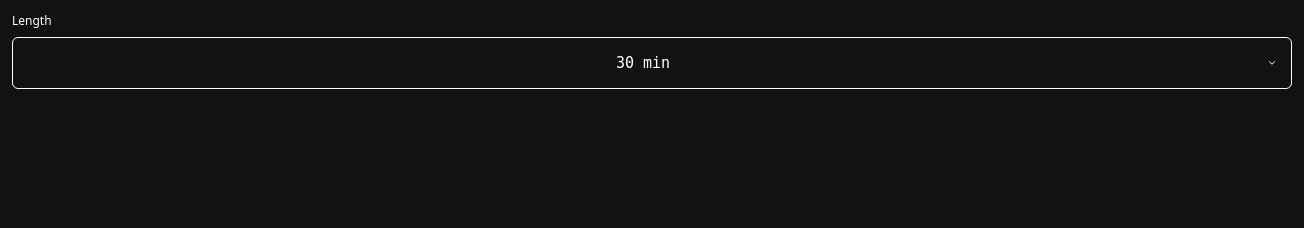
FocusPicker keyboard › opens on the current choice, moves with arrows, picks with a press, and returns focus
Step 1. Press ArrowDown in the button named "Length ", box [12,37,1292,89]
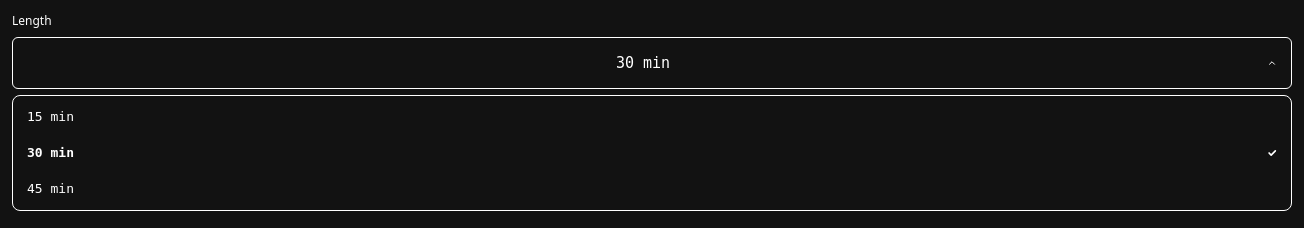
Step 2. Press ArrowDown in the option "30 min", box [17,136,1287,170]
Step 3. Press ArrowDown in the option "45 min", box [17,172,1287,206]
Step 4. Press End in the option "15 min", box [17,100,1287,134]
Step 5. Click the option "45 min" → click(50, 189), box [17,172,1287,206]
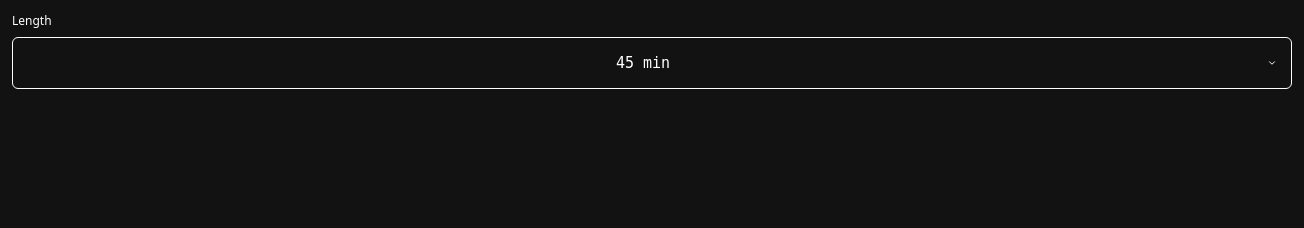
Expected: the list is gone
